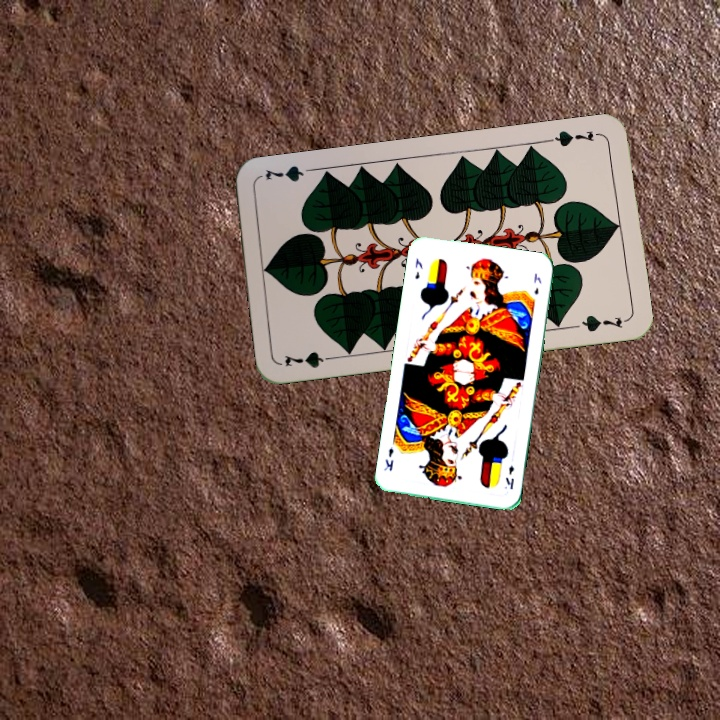EK: (501, 461, 516, 491), (411, 254, 425, 282)
G7: (280, 347, 339, 371), (545, 126, 597, 149)
